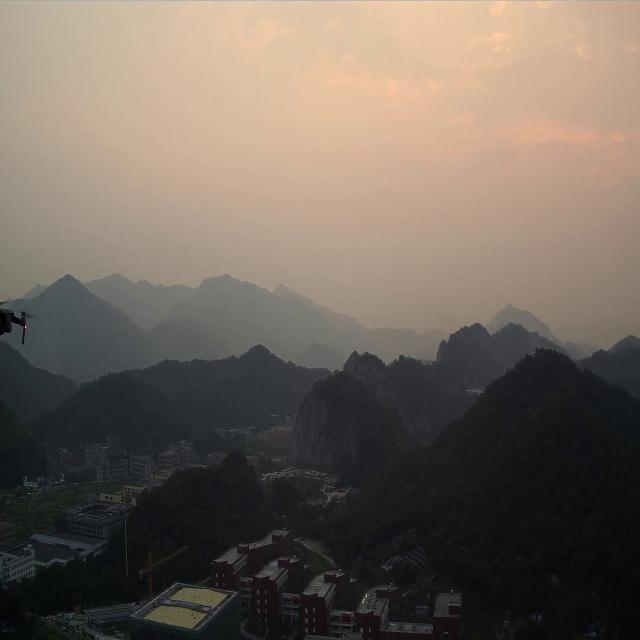UAV: (0, 300, 40, 346)
